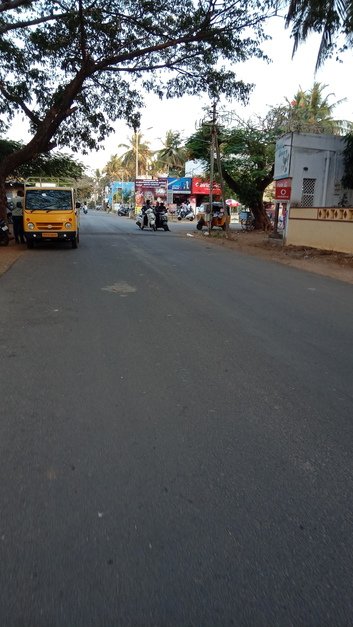bump: (80, 228, 190, 238)
